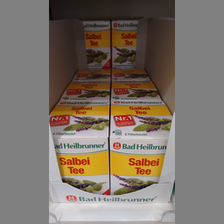tea: (110, 105, 172, 199), (49, 105, 110, 200), (111, 20, 139, 69), (83, 19, 110, 68)
